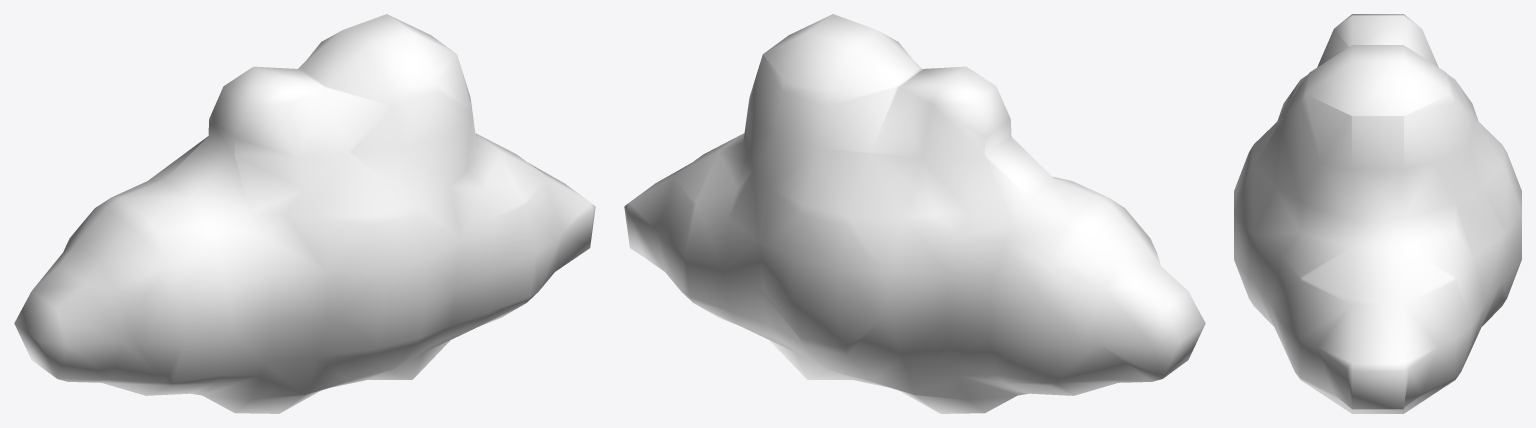
Rendered from cloud5.glb.
3 views of the same model, side by side, from view 1: azimuth 30°, elevation 25°; view 2: azimuth 150°, elevation 25°; view 3: azimuth 270°, elevation 25° (orthographic).
Parts seen in each view (by area): view 1: Mball.014; view 2: Mball.014; view 3: Mball.014.
Boxes of the visible parts, x1,y1,x2,y2 form: Mball.014: (14,14,595,413); Mball.014: (624,14,1205,413); Mball.014: (1234,14,1521,413).
Size of the model in its own units: 7.65 by 4.59 by 3.41.
Materials: 1 (1 with a texture image).
